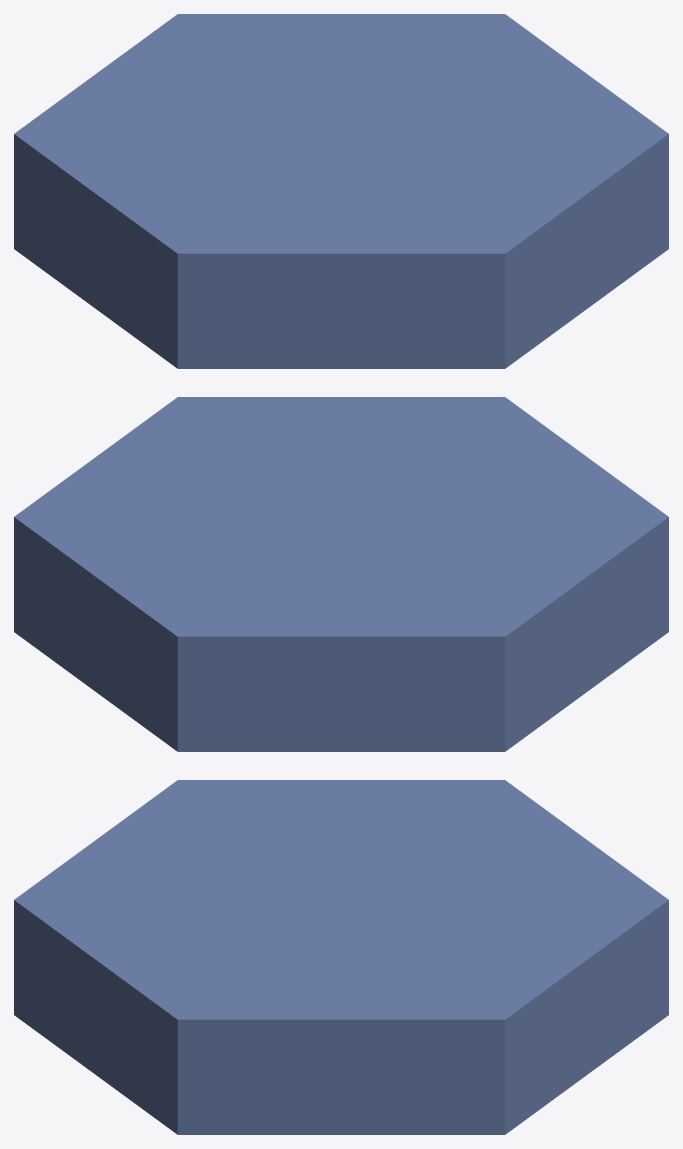
The picture shows the model from 3 angles, top to bottom: view 1: azimuth 30°, elevation 25°; view 2: azimuth 150°, elevation 25°; view 3: azimuth 270°, elevation 25°; orthographic projection.
Parts seen in each view (by area): view 1: Mesh_Mesh_head_geo.001_lambert2SG.001; view 2: Mesh_Mesh_head_geo.001_lambert2SG.001; view 3: Mesh_Mesh_head_geo.001_lambert2SG.001.
Part boxes in pixels (x1,y1,x2,y2): Mesh_Mesh_head_geo.001_lambert2SG.001: (14,14,668,368); Mesh_Mesh_head_geo.001_lambert2SG.001: (14,397,668,751); Mesh_Mesh_head_geo.001_lambert2SG.001: (14,780,668,1134).
Size of the model in its own units: 44.66 by 10 by 51.57.
